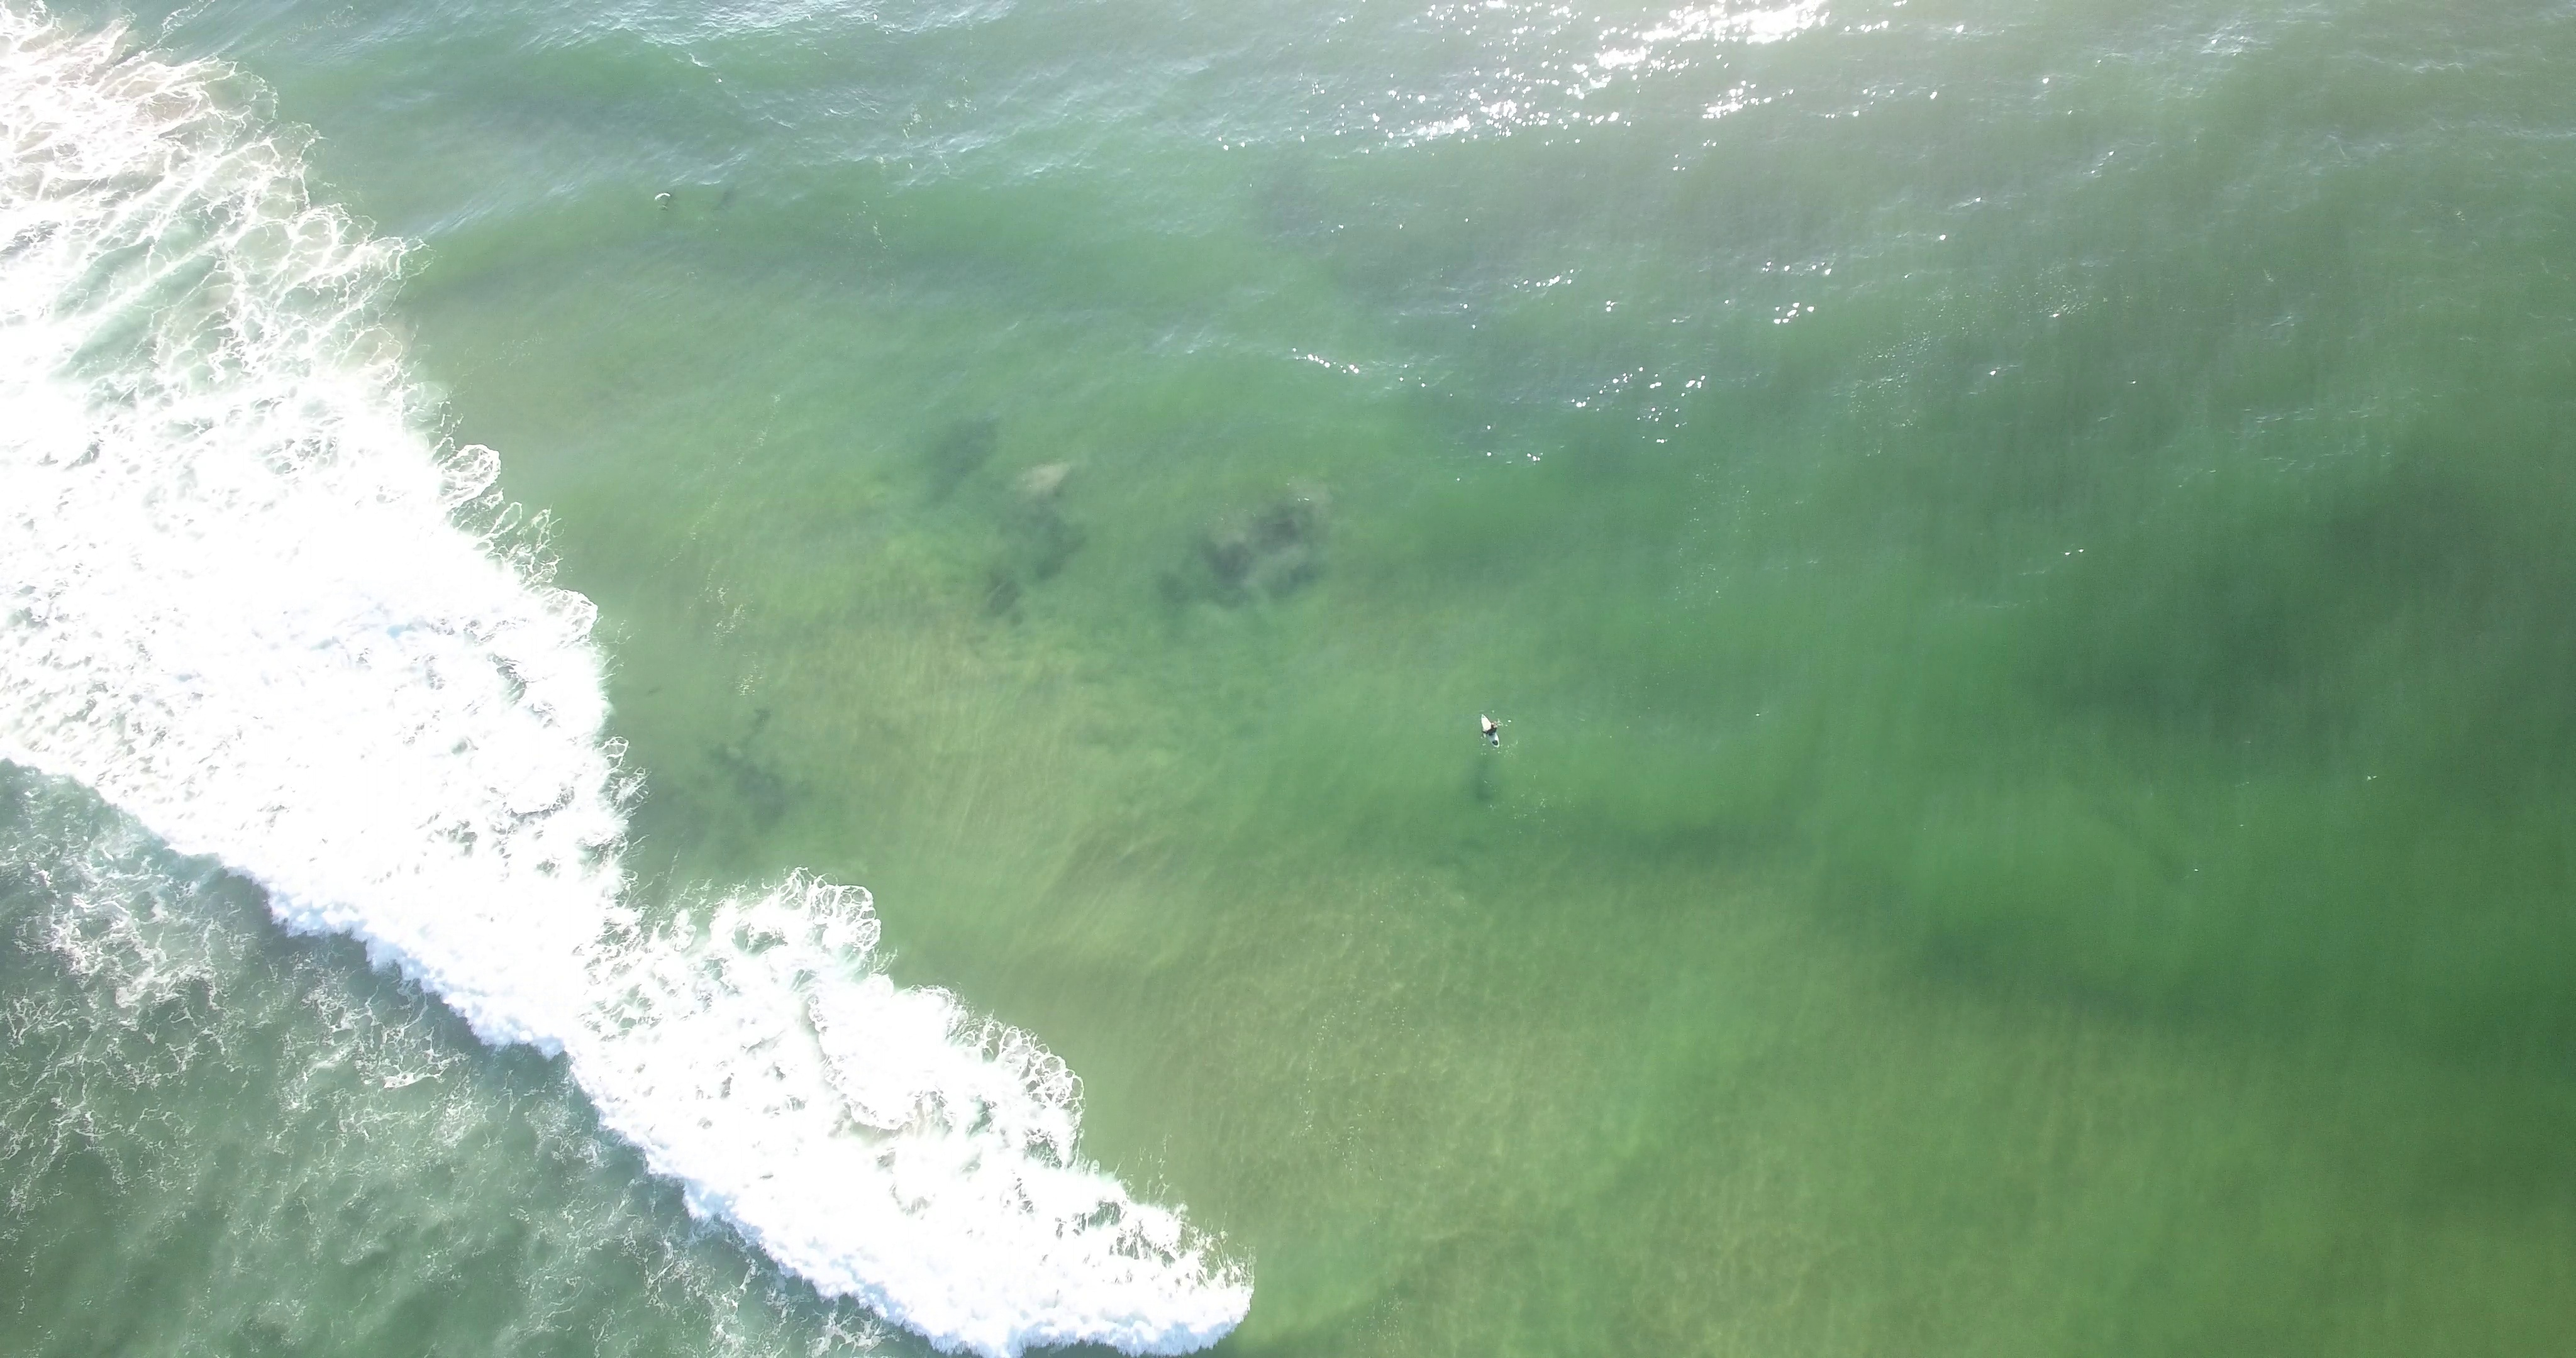surfer: (1475, 712, 1504, 751)
